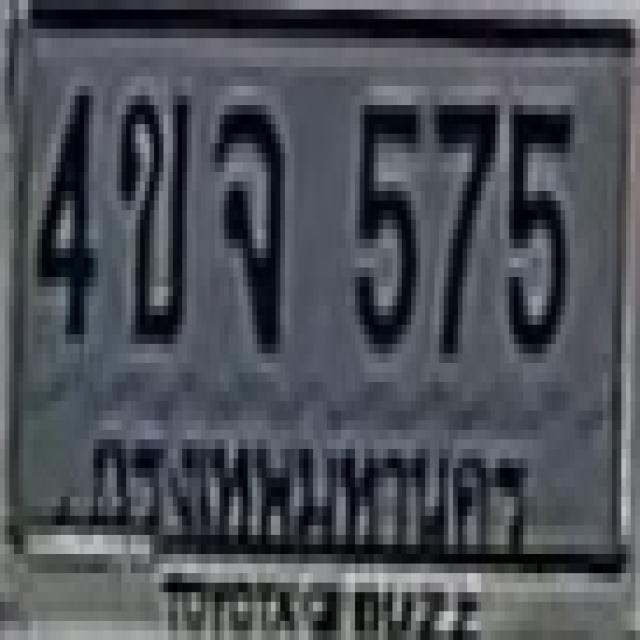4: (32, 76, 88, 334)
5: (504, 95, 570, 344), (350, 95, 416, 344)
7: (430, 95, 495, 354)
A02: (117, 86, 187, 334)
A08: (210, 95, 280, 344)
BKK: (87, 408, 535, 578)
